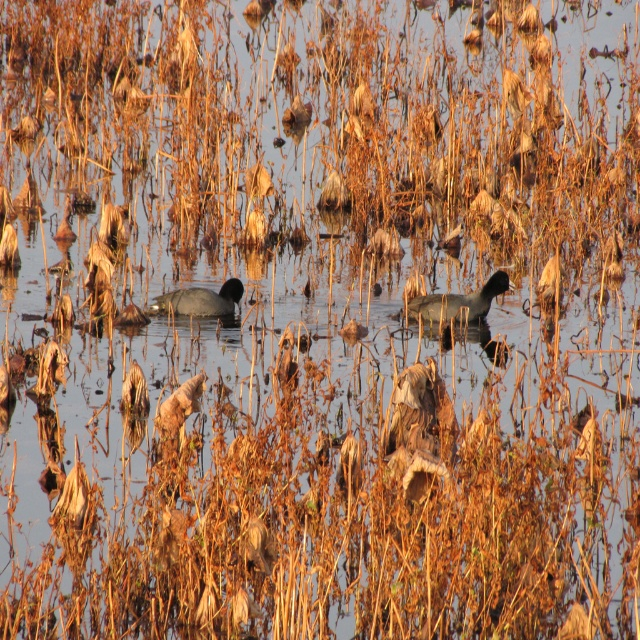Duck: (396, 268, 519, 324), (148, 278, 247, 329)
